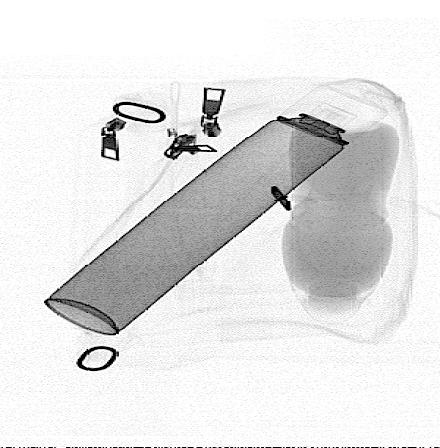Sprayer: (43, 83, 390, 337)
